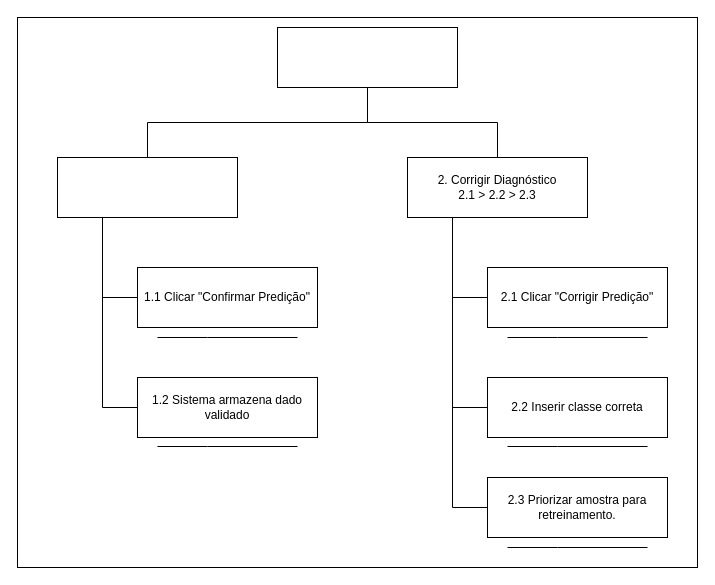
Some shapes in this 715 by 585 pixel diagram are drawn without their labels. Here are the shapes that lost their labels. From the top down, the centre of each, then its label:
At (367,57): "0.Fornecer feedback sobre predição".
At (147,187): "1. Confirmar Diagnóstico 1.1 > 1.2".
